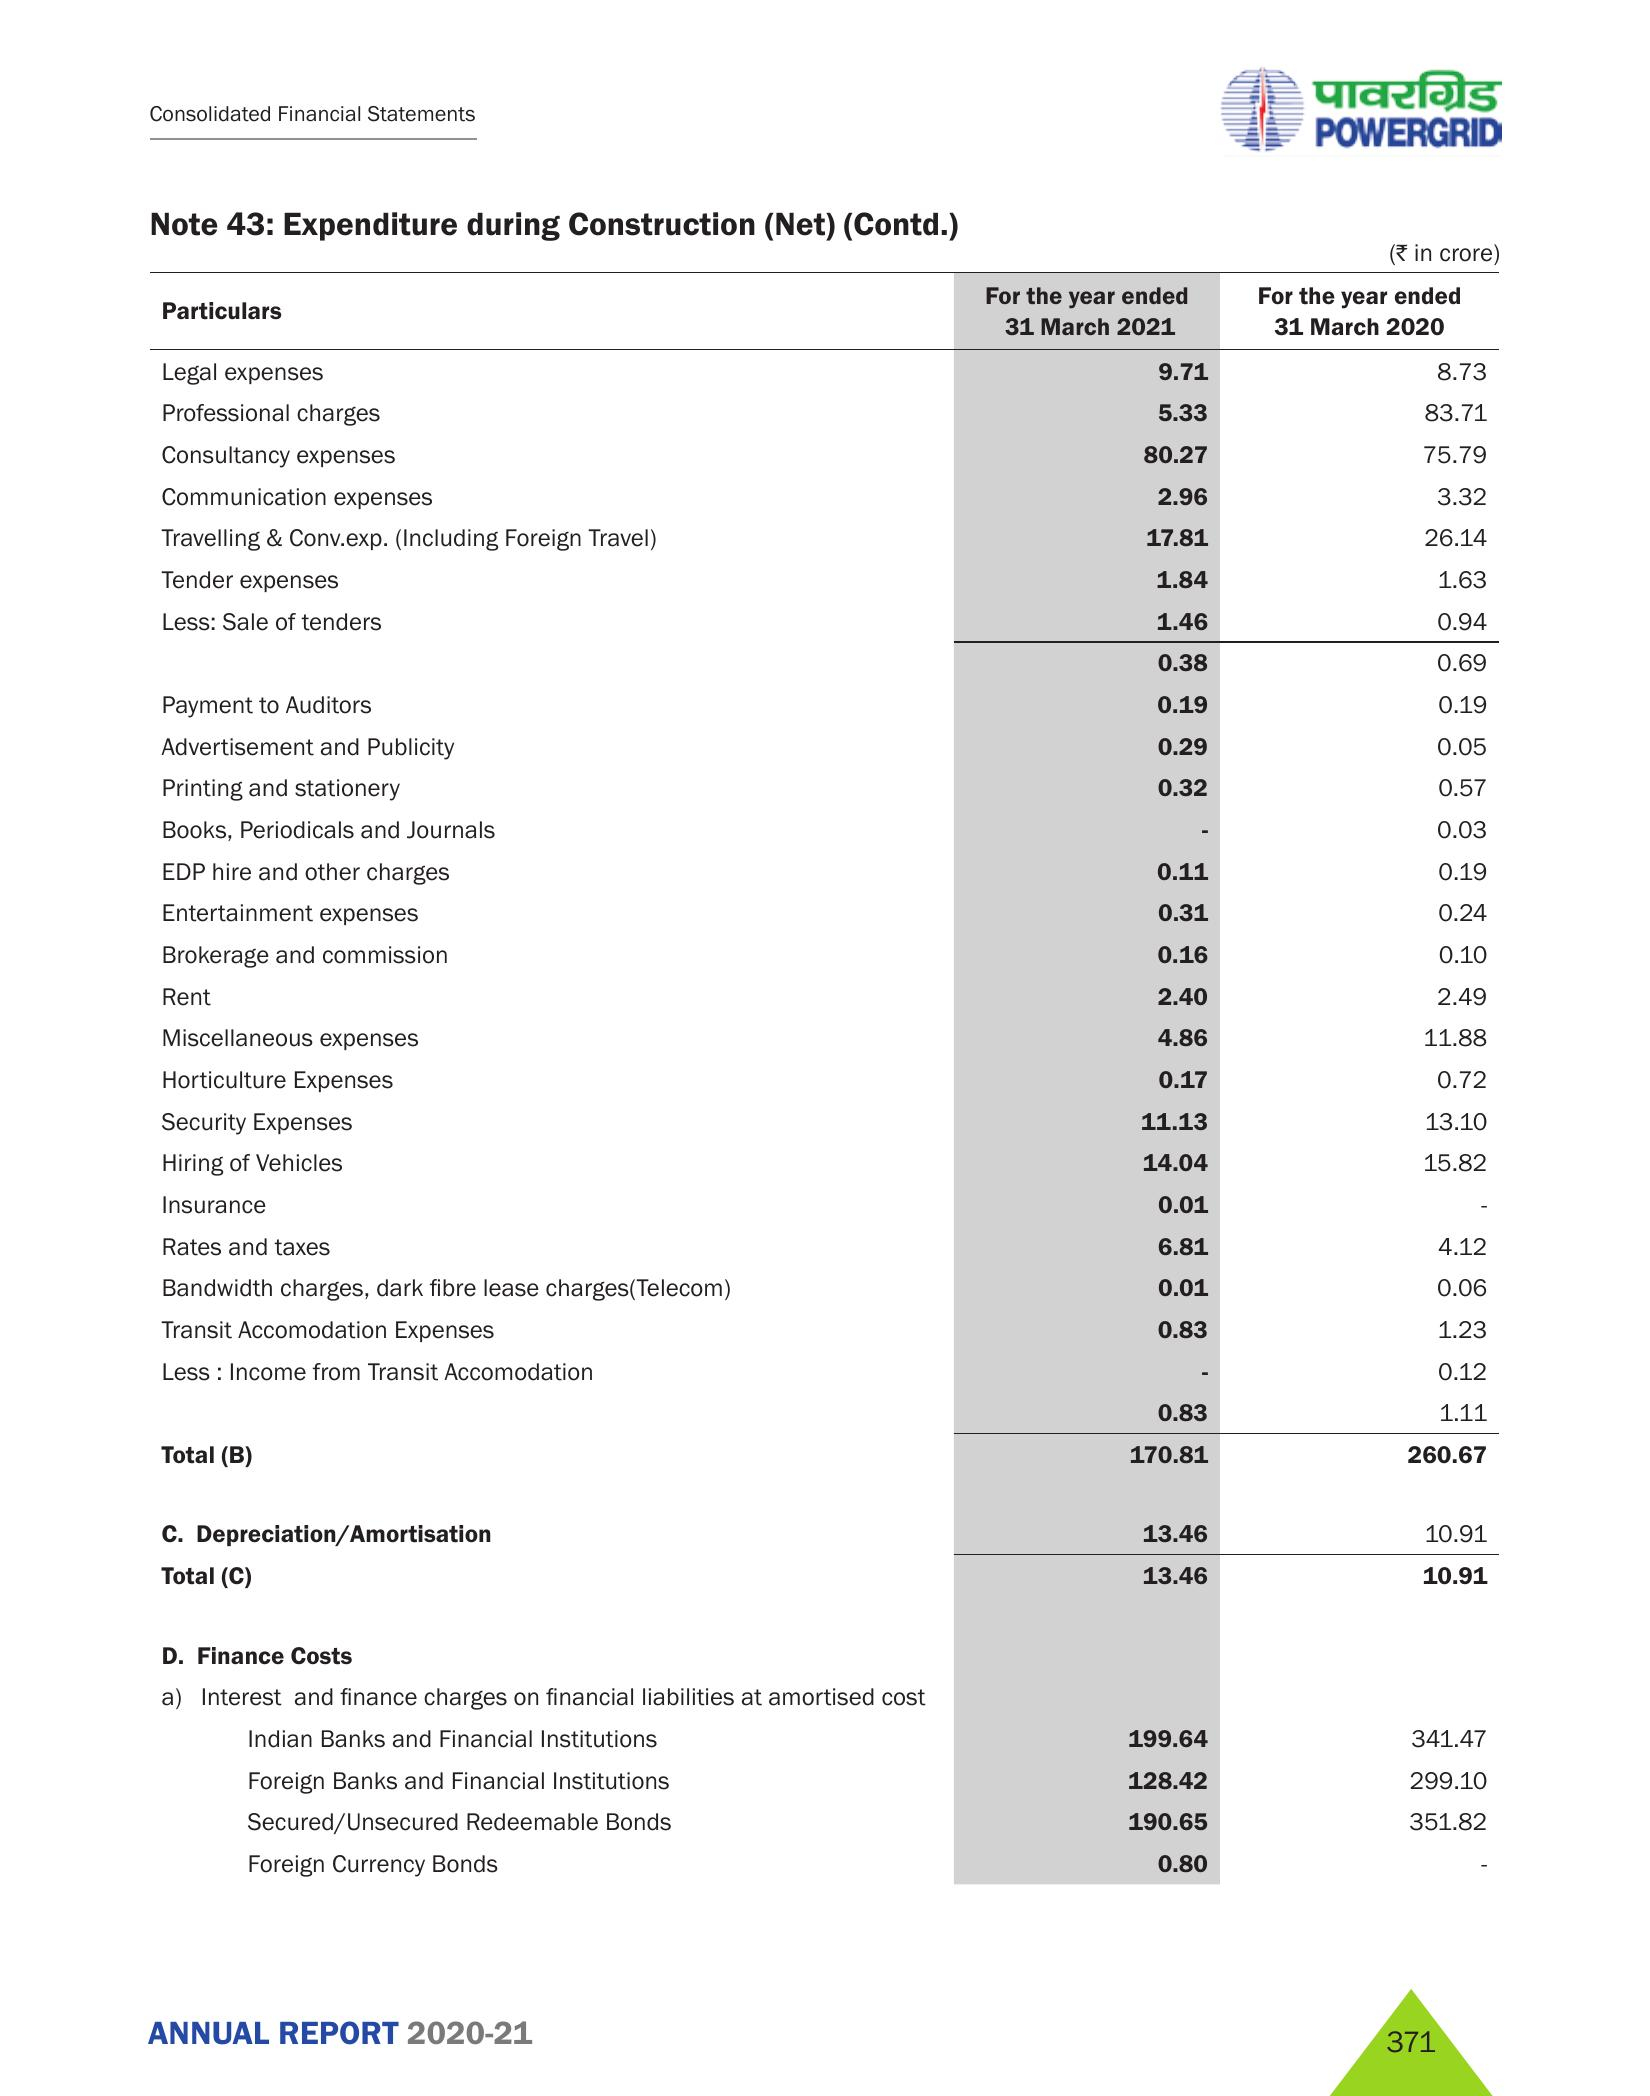Footer: (0, 1962, 1650, 2096)
Header: (0, 0, 1650, 180)
Table: (102, 271, 1551, 1878)
